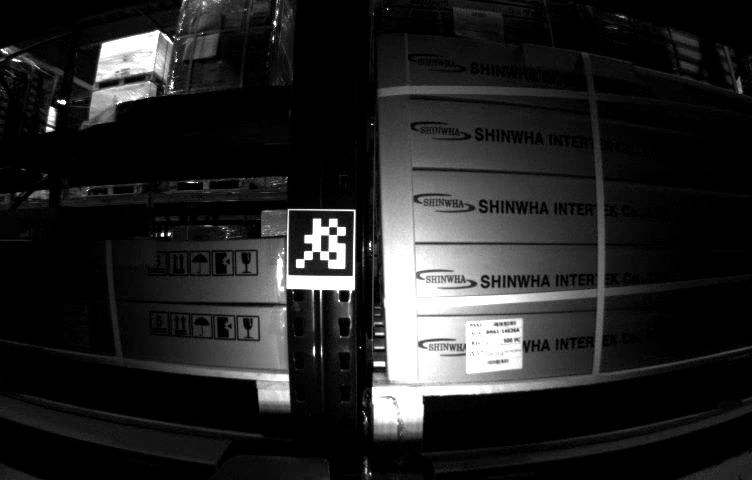True Barcode: (465, 320, 525, 370), (50, 302, 89, 349)
